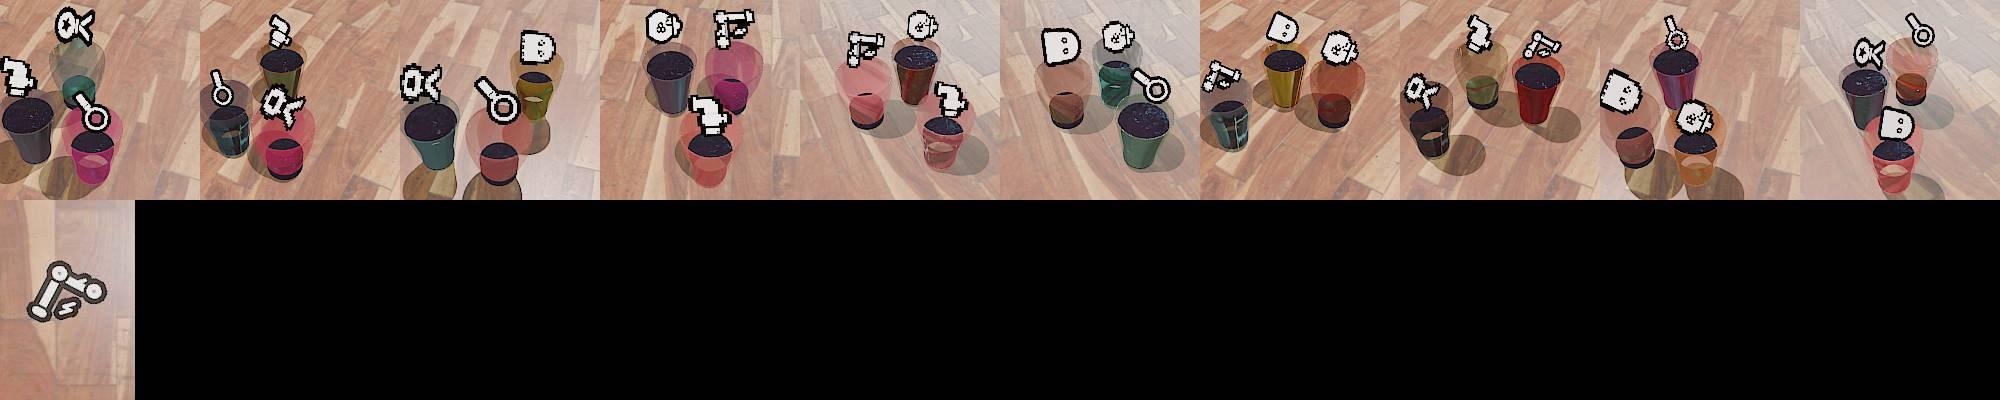icon: (26, 259, 110, 325), (473, 73, 523, 126), (686, 89, 735, 136), (1598, 68, 1645, 115), (259, 84, 307, 130), (73, 89, 115, 134), (399, 62, 444, 104), (712, 8, 756, 48), (1040, 27, 1082, 68), (55, 6, 96, 47), (0, 55, 38, 98), (1133, 66, 1172, 107), (1403, 71, 1441, 111), (1319, 29, 1358, 66), (644, 8, 684, 45), (846, 31, 885, 68), (519, 28, 557, 65), (1878, 104, 1916, 141), (1675, 101, 1714, 136), (934, 79, 968, 117), (1464, 13, 1495, 55), (1265, 10, 1301, 46), (1203, 60, 1241, 93), (1523, 29, 1562, 61), (1101, 19, 1135, 54), (906, 10, 940, 43), (1853, 36, 1888, 69), (1904, 13, 1935, 50), (209, 68, 235, 107), (1662, 14, 1687, 52), (268, 14, 293, 51)
